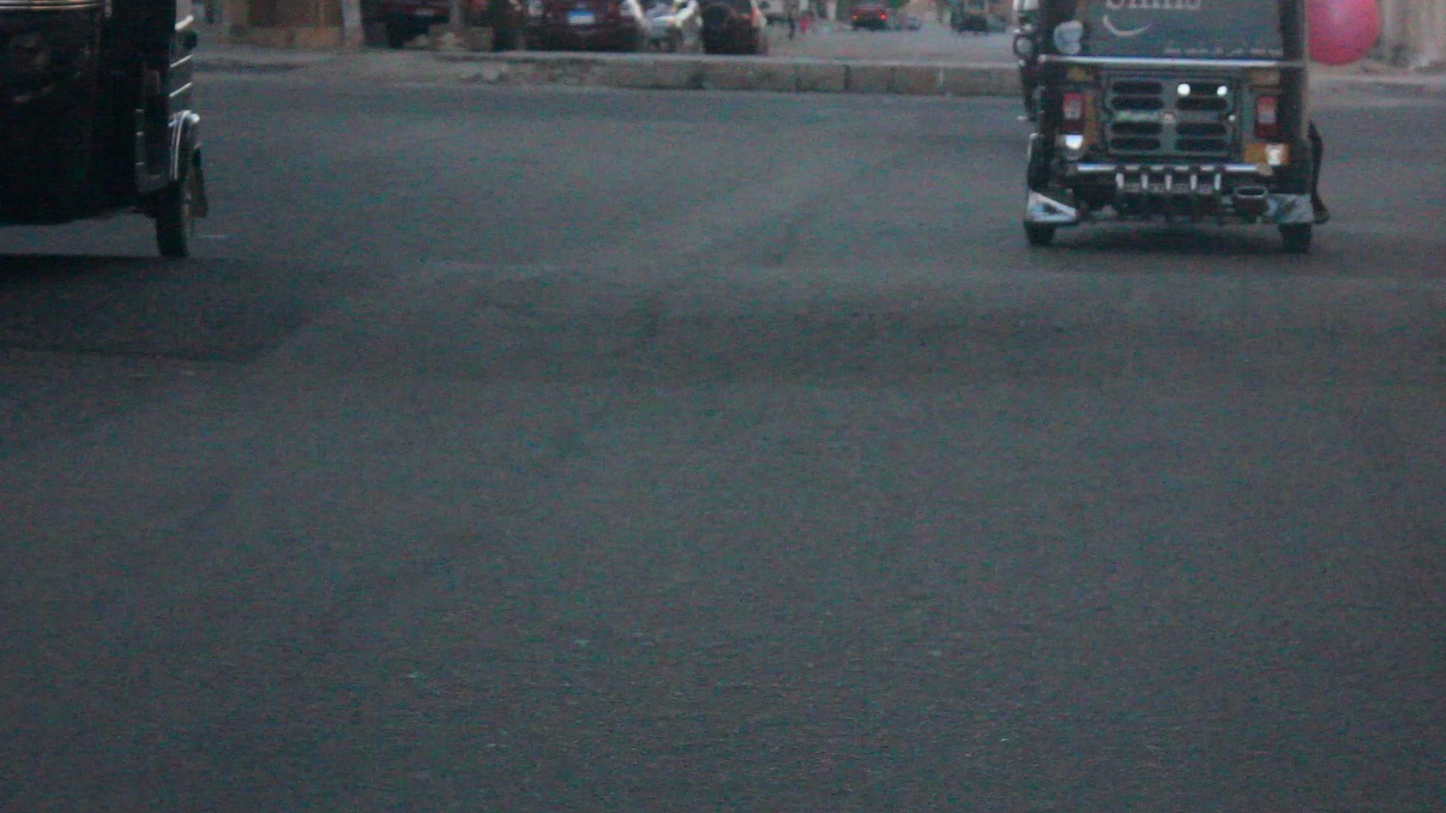Bump: (0, 248, 1446, 412)
